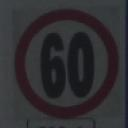speed_limit_60: (14, 9, 118, 119)
